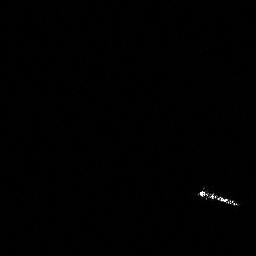ship: (197, 187, 240, 207)
